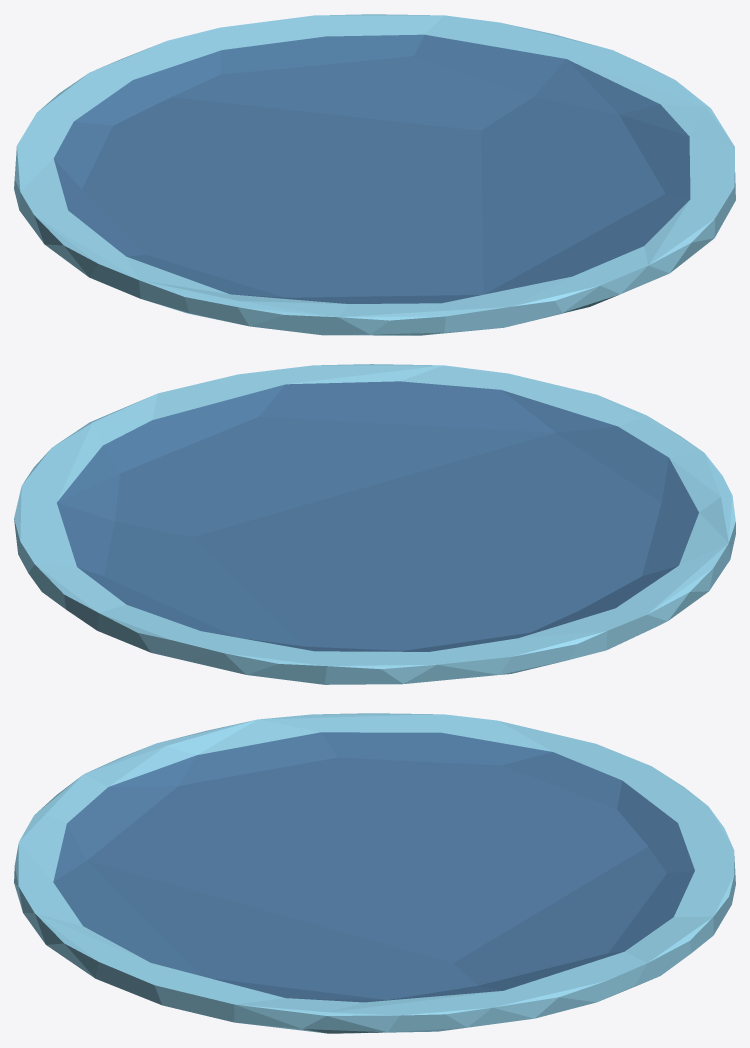
The model's file is PlateSmallBlue.fbx.
3 views of the same model, one above another, from view 1: azimuth 30°, elevation 25°; view 2: azimuth 150°, elevation 25°; view 3: azimuth 270°, elevation 25° (orthographic).
Visible parts, largest first — view 1: PlateSmallLowPolyBlue; view 2: PlateSmallLowPolyBlue; view 3: PlateSmallLowPolyBlue.
Part boxes in pixels (x1,y1,x2,y2): PlateSmallLowPolyBlue: (14, 14, 735, 335); PlateSmallLowPolyBlue: (14, 364, 735, 684); PlateSmallLowPolyBlue: (14, 713, 735, 1033).
Size of the model in its own units: 15.48 by 1.31 by 15.46.
